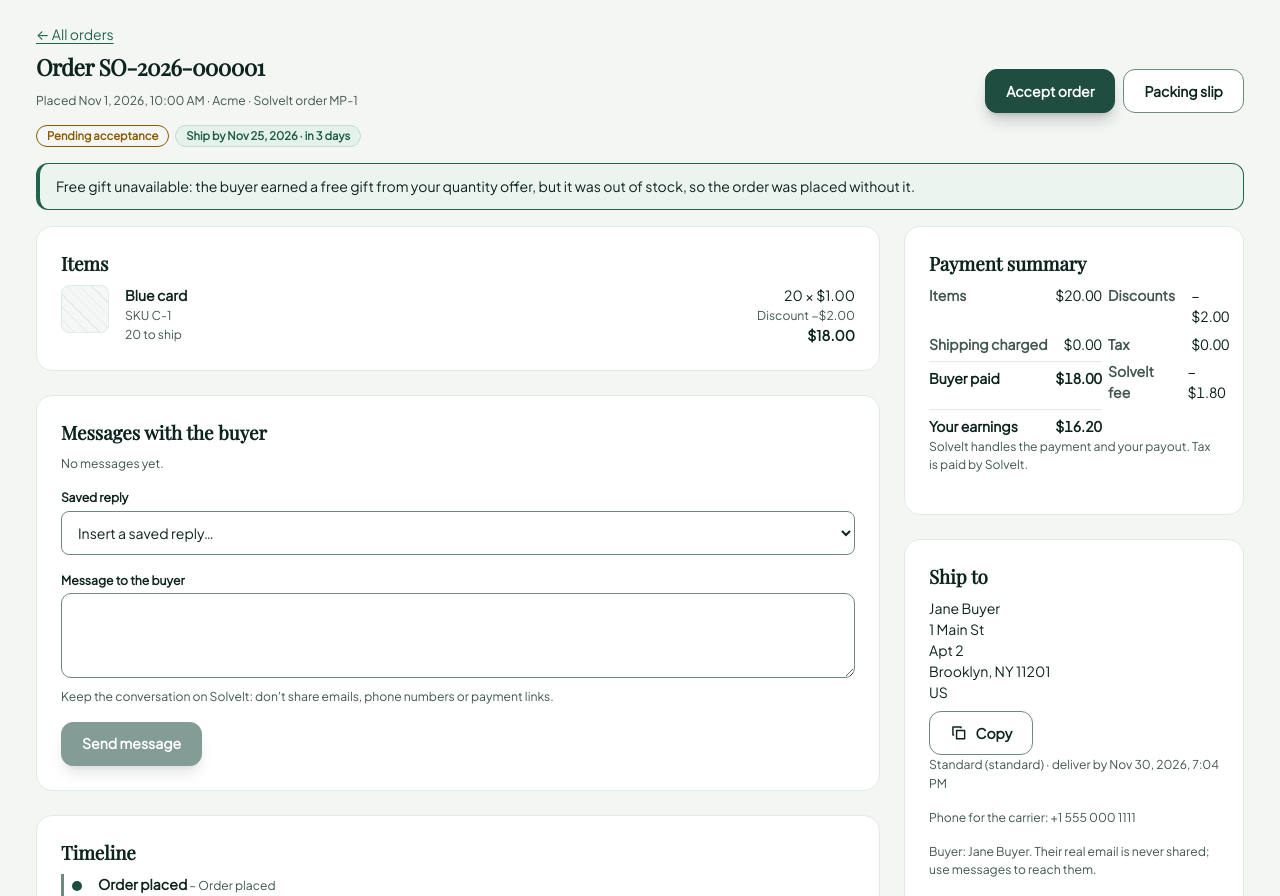
Scenario: quantity offers on an order › shows a notice when the earned gift was unavailable, on the order and on the slip
Expected: the text "Free gift unavailable: the buyer earned a free gift" is shown, [56,177,915,195]
Click the button "Packing slip" at (1184, 91), box [1124,69,1244,113]
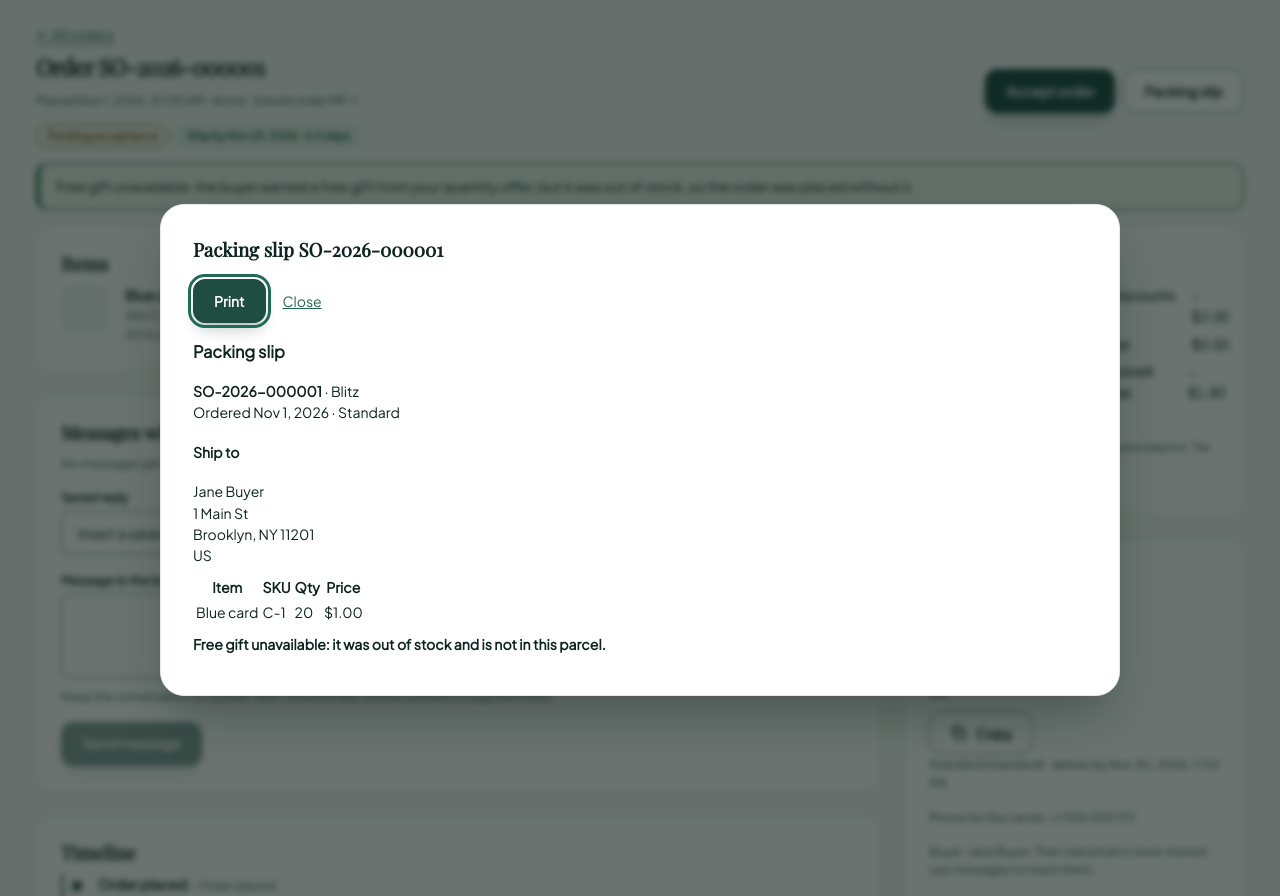
Result: the text "Free gift unavailable: it was out of stock" is shown at [193,635,606,653]
